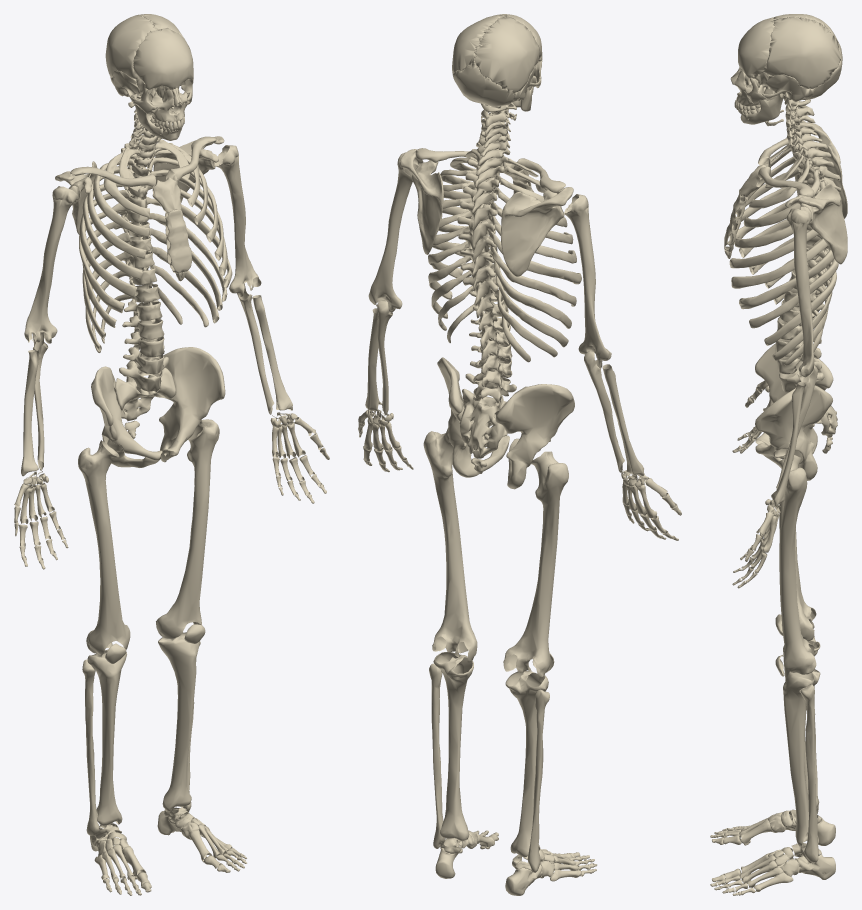
File: esqueleto-estudo.glb
The picture shows the model from 3 angles, left to right: view 1: azimuth 30°, elevation 25°; view 2: azimuth 150°, elevation 25°; view 3: azimuth 270°, elevation 25°; orthographic projection. The views are drawn at different scales.
Visible parts, largest first — view 1: Object_9.001, Object_35.001; view 2: Object_9.001, Object_35.001; view 3: Object_9.001, Object_35.001.
Boxes of the visible parts, <box> form: Object_9.001: <box>14,14,329,895</box>; Object_35.001: <box>114,96,175,438</box>; Object_9.001: <box>358,14,681,895</box>; Object_35.001: <box>457,102,516,473</box>; Object_9.001: <box>710,14,847,895</box>; Object_35.001: <box>775,99,840,453</box>.
Bounding box in the file's own units: 0.6692 × 1.7 × 0.25.
